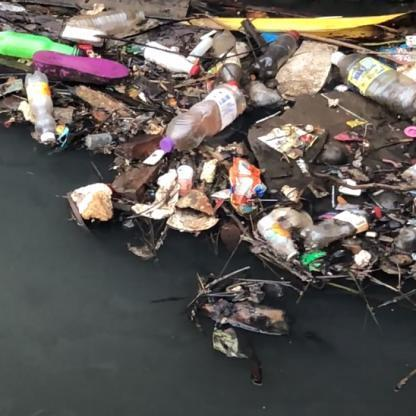plastic bottle: (158, 82, 247, 153), (331, 50, 416, 112), (304, 206, 382, 242), (1, 30, 83, 62), (253, 29, 300, 77), (25, 71, 56, 142), (257, 215, 299, 261), (146, 41, 200, 75), (68, 10, 147, 30)
